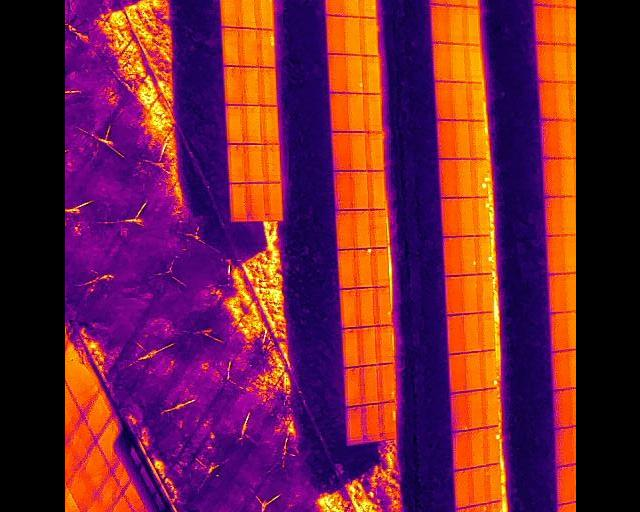Cell: (343, 55, 361, 94), (372, 286, 389, 324), (376, 364, 393, 401), (354, 249, 370, 288), (471, 198, 487, 236), (459, 236, 474, 274), (475, 236, 490, 274), (480, 351, 495, 389), (483, 427, 498, 465), (557, 501, 576, 512)
Cell-Multi: (257, 29, 274, 67), (469, 159, 485, 197), (357, 0, 374, 18)
No-Anomaly: (545, 274, 566, 315), (555, 464, 575, 506), (554, 426, 574, 467), (551, 349, 570, 390), (553, 389, 572, 430), (449, 392, 469, 430), (544, 235, 563, 275), (549, 312, 568, 352), (541, 159, 560, 197), (335, 210, 353, 250), (453, 469, 471, 509), (325, 17, 344, 54), (224, 66, 242, 105), (227, 144, 245, 183), (245, 144, 263, 183), (331, 133, 349, 172), (333, 171, 351, 210), (365, 133, 383, 172), (365, 171, 383, 210), (447, 353, 465, 392), (542, 197, 560, 236), (222, 28, 240, 66), (226, 106, 244, 144), (229, 183, 247, 221), (243, 106, 261, 144), (262, 144, 280, 182), (264, 183, 282, 221), (329, 93, 347, 131), (443, 236, 460, 276), (327, 54, 344, 93), (370, 248, 387, 287), (434, 82, 451, 121), (440, 198, 457, 237), (446, 315, 463, 354), (451, 430, 468, 469), (363, 94, 380, 132), (368, 210, 385, 248), (445, 276, 462, 314), (465, 351, 481, 391), (468, 428, 484, 468), (247, 183, 264, 220), (361, 56, 378, 93), (338, 250, 354, 289), (339, 289, 355, 328), (342, 328, 358, 367), (347, 94, 363, 133), (352, 210, 368, 249), (356, 288, 372, 327), (438, 158, 454, 197), (481, 389, 497, 428), (539, 120, 555, 159), (560, 196, 576, 235), (461, 7, 478, 43), (240, 28, 256, 66), (349, 171, 365, 209), (358, 327, 374, 365), (360, 18, 376, 56), (360, 366, 376, 404), (361, 404, 377, 442), (375, 326, 391, 364), (436, 120, 452, 158), (464, 45, 480, 83), (532, 6, 548, 44), (537, 81, 553, 119), (549, 6, 565, 44), (558, 159, 574, 197), (431, 4, 447, 41), (452, 121, 468, 158), (536, 44, 552, 81), (349, 133, 364, 172), (432, 43, 447, 82), (454, 159, 469, 198), (463, 313, 478, 352), (470, 466, 485, 505), (553, 82, 568, 121), (244, 67, 259, 105), (261, 106, 276, 144), (343, 367, 358, 405), (448, 44, 463, 82), (450, 82, 465, 120), (466, 83, 481, 121), (467, 390, 482, 428), (476, 274, 491, 312), (478, 312, 493, 350), (556, 120, 571, 158), (259, 68, 274, 105), (345, 407, 360, 444), (468, 121, 483, 158), (484, 464, 499, 501), (552, 45, 567, 82), (344, 17, 358, 55), (457, 198, 471, 236), (462, 275, 476, 313), (254, 0, 272, 29), (446, 6, 460, 43), (220, 0, 239, 27), (239, 0, 255, 28), (323, 0, 342, 16), (342, 0, 358, 17), (486, 501, 501, 512), (471, 504, 486, 512)
Unclassified: (378, 402, 396, 439)
